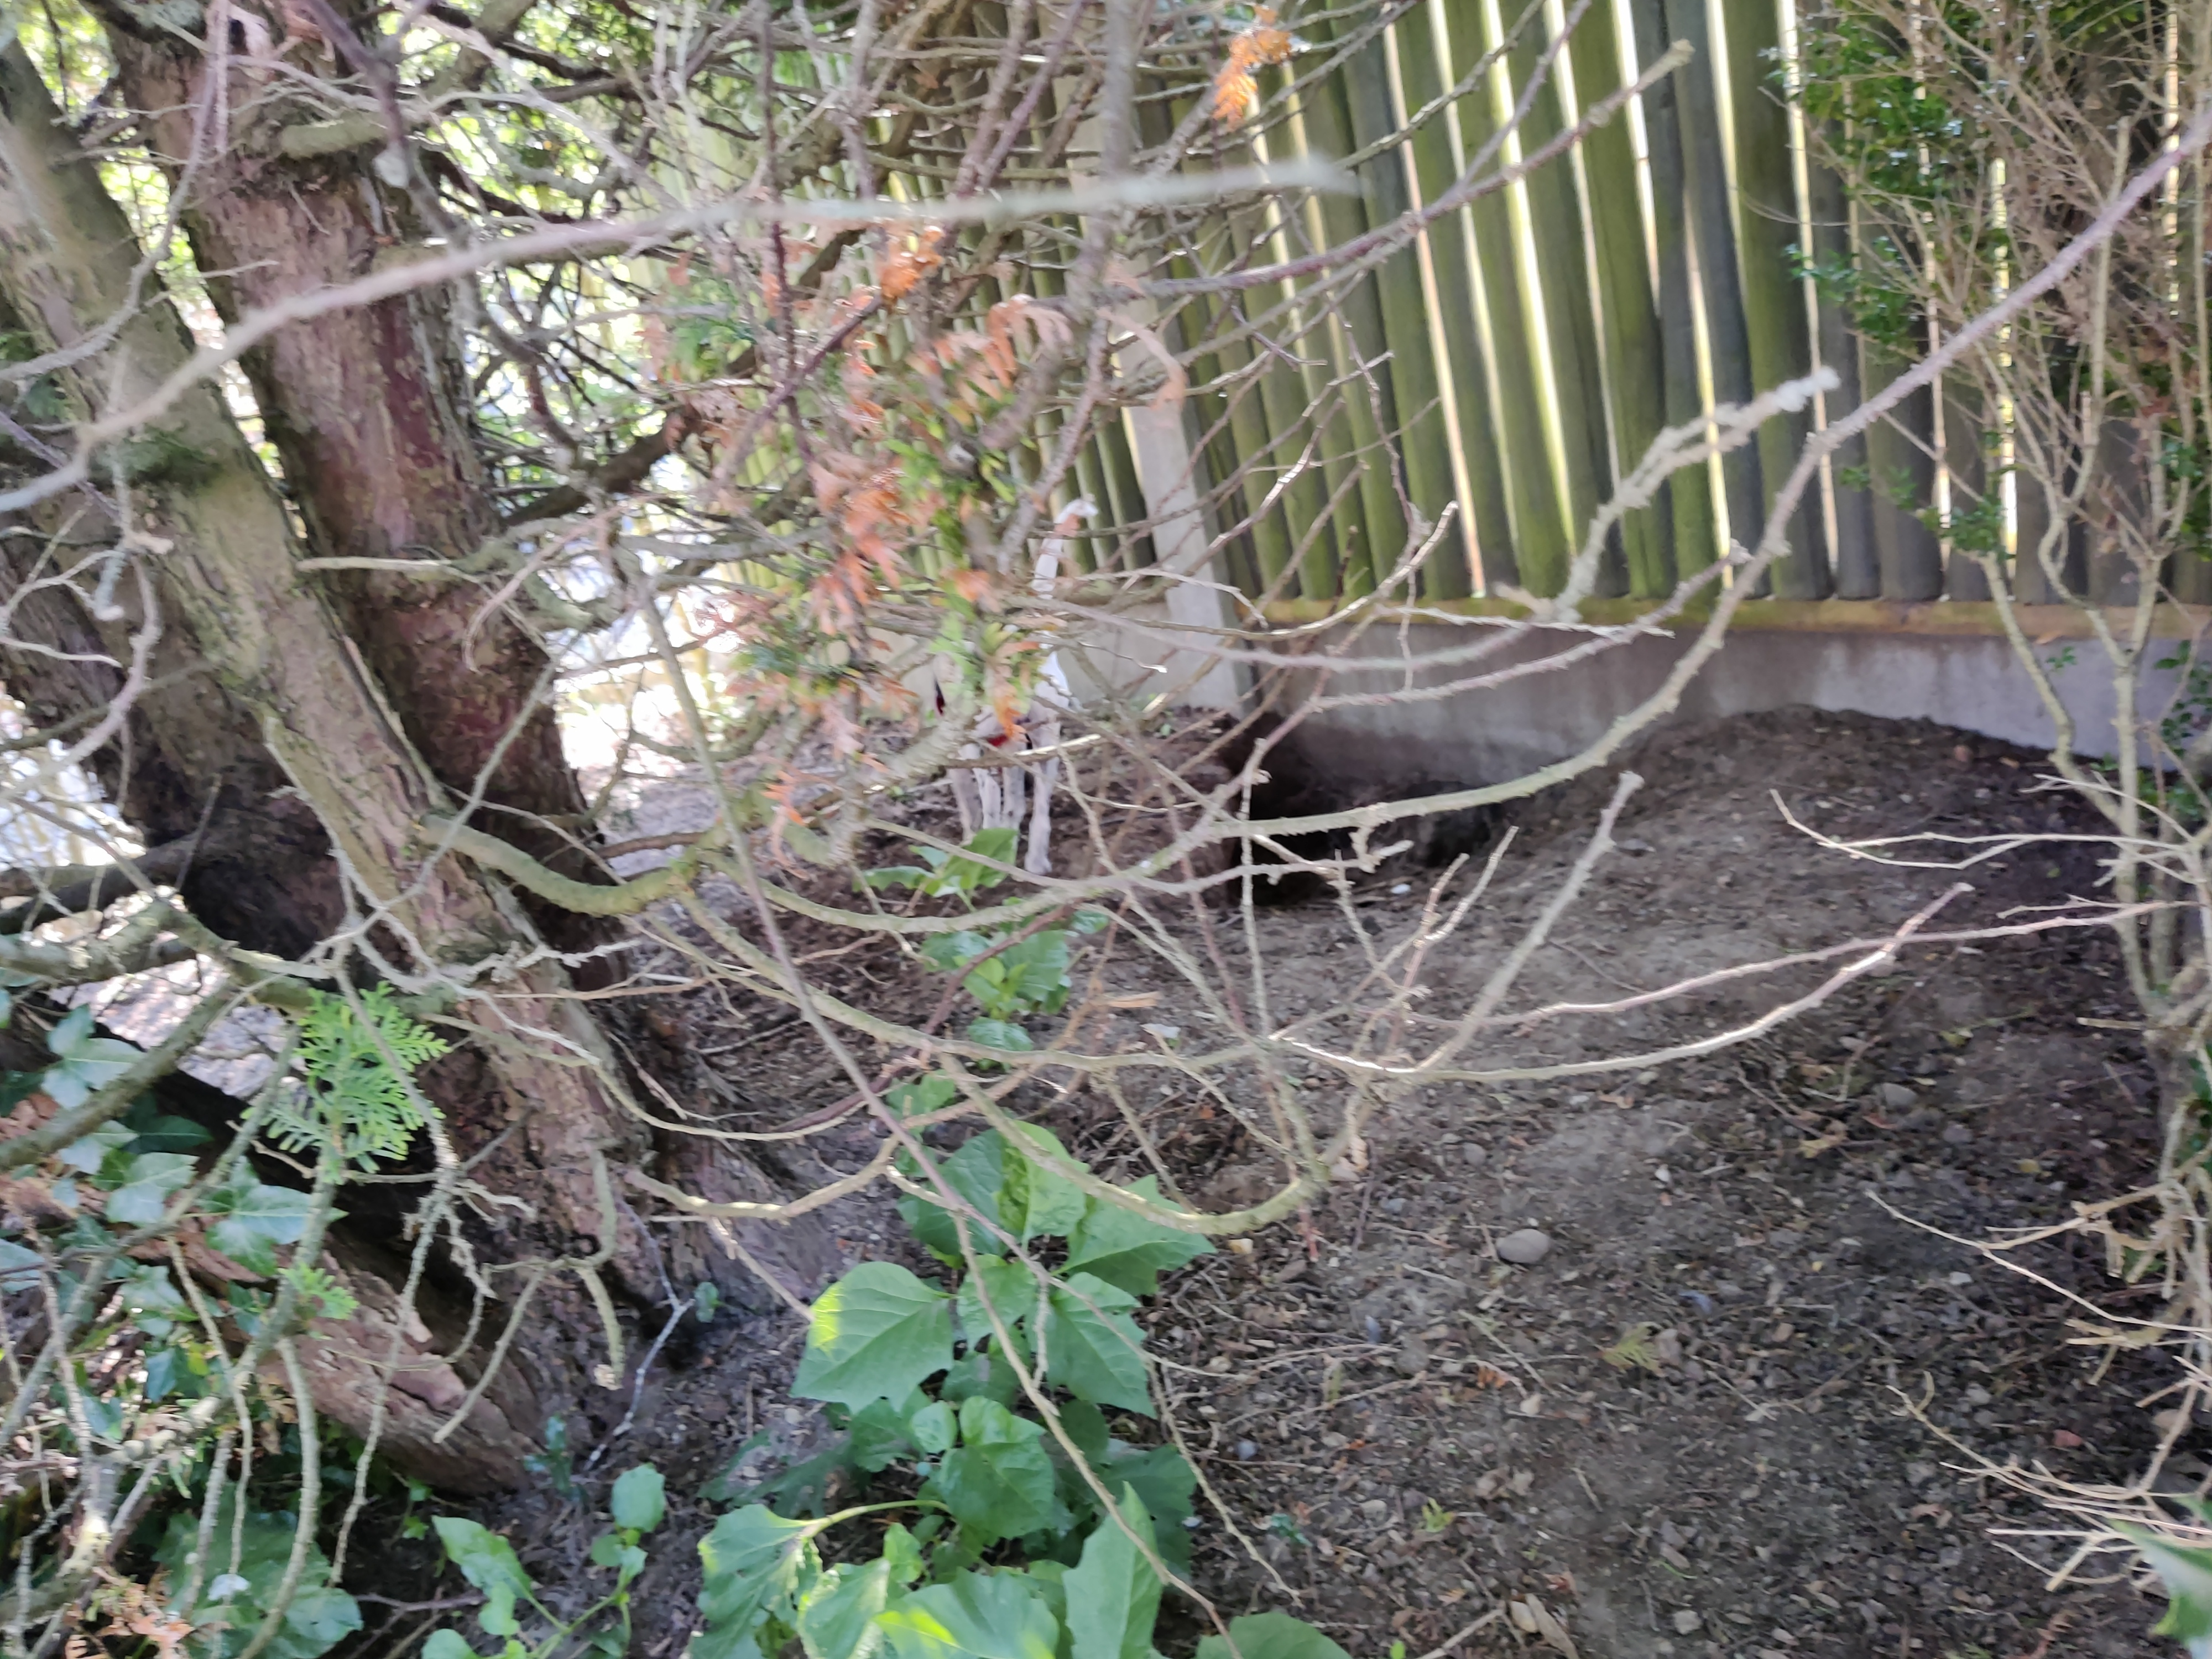Dog: (904, 483, 1106, 887)
